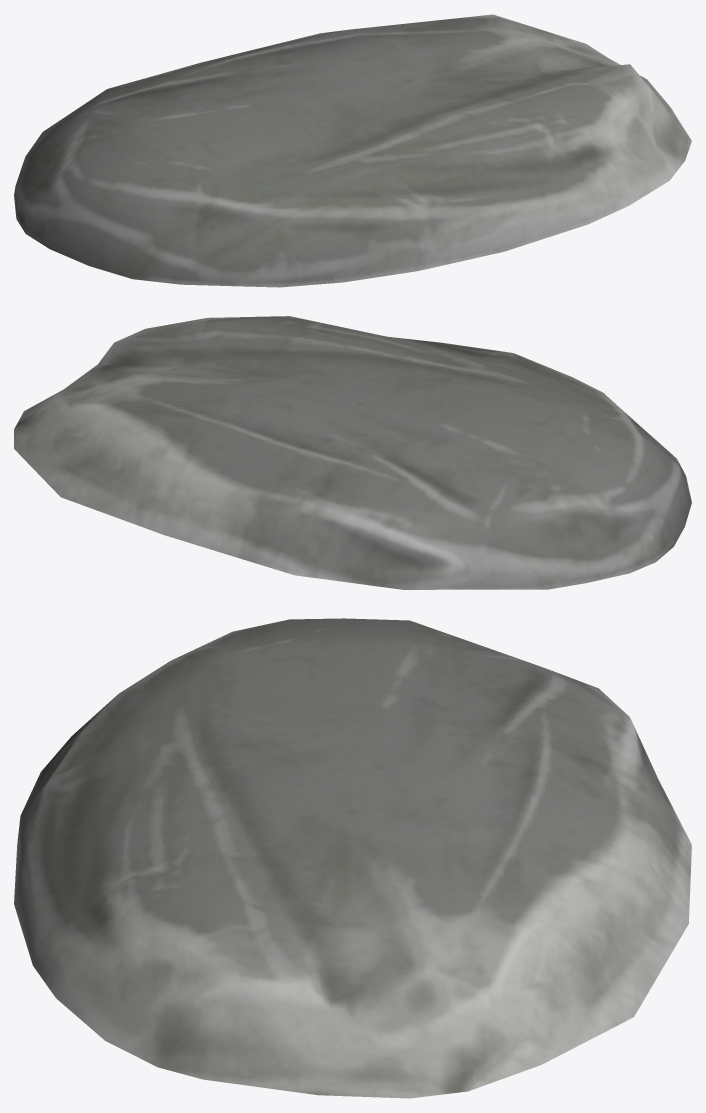
The model's file is 17_R_Pequeña.fbx.
The picture shows the model from 3 angles, top to bottom: view 1: azimuth 30°, elevation 25°; view 2: azimuth 150°, elevation 25°; view 3: azimuth 270°, elevation 25°; orthographic projection. The views are drawn at different scales.
Parts seen in each view (by area): view 1: 17_R_Pequeña_Low; view 2: 17_R_Pequeña_Low; view 3: 17_R_Pequeña_Low.
Boxes of the visible parts, x1,y1,x2,y2 form: 17_R_Pequeña_Low: (14, 14, 691, 287); 17_R_Pequeña_Low: (14, 316, 691, 589); 17_R_Pequeña_Low: (14, 618, 691, 1098).
Bounding box in the file's own units: 499 × 64.53 × 334.
